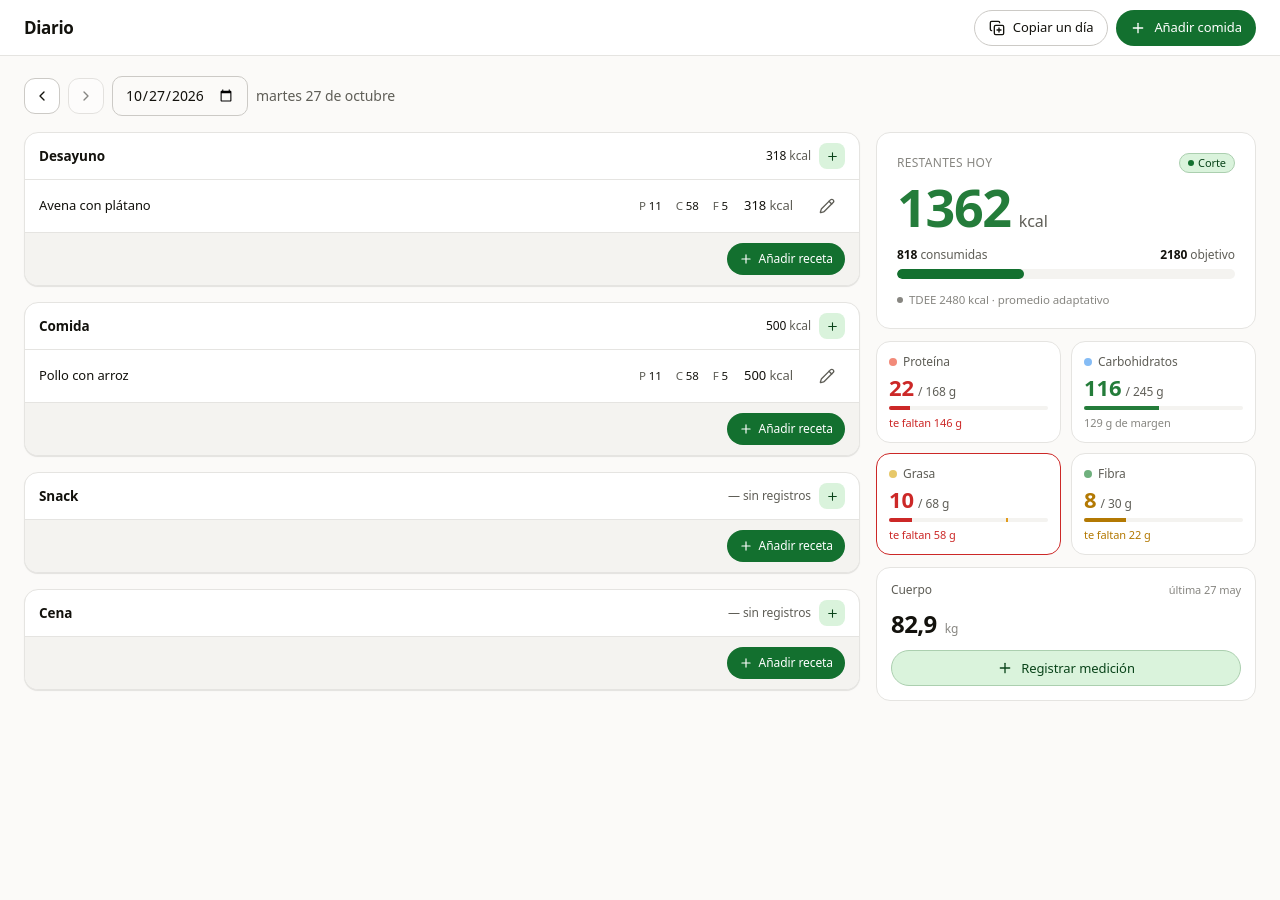
Test: DiarioPage day numbers (useDayContext) › renders the day’s kcal total, the phase label and the per-slot subtotals
Expected: the text with test id "kcal-hero-remaining" reads "1362", [897, 171, 1011, 242]
Expected: the text "Corte" is shown, [1179, 153, 1235, 173]
// mealSubtotals — one kcal figure per slot chip in the add-sheet.
Click the button "Añadir comida".
click(1186, 28)  # box [1116, 10, 1256, 46]
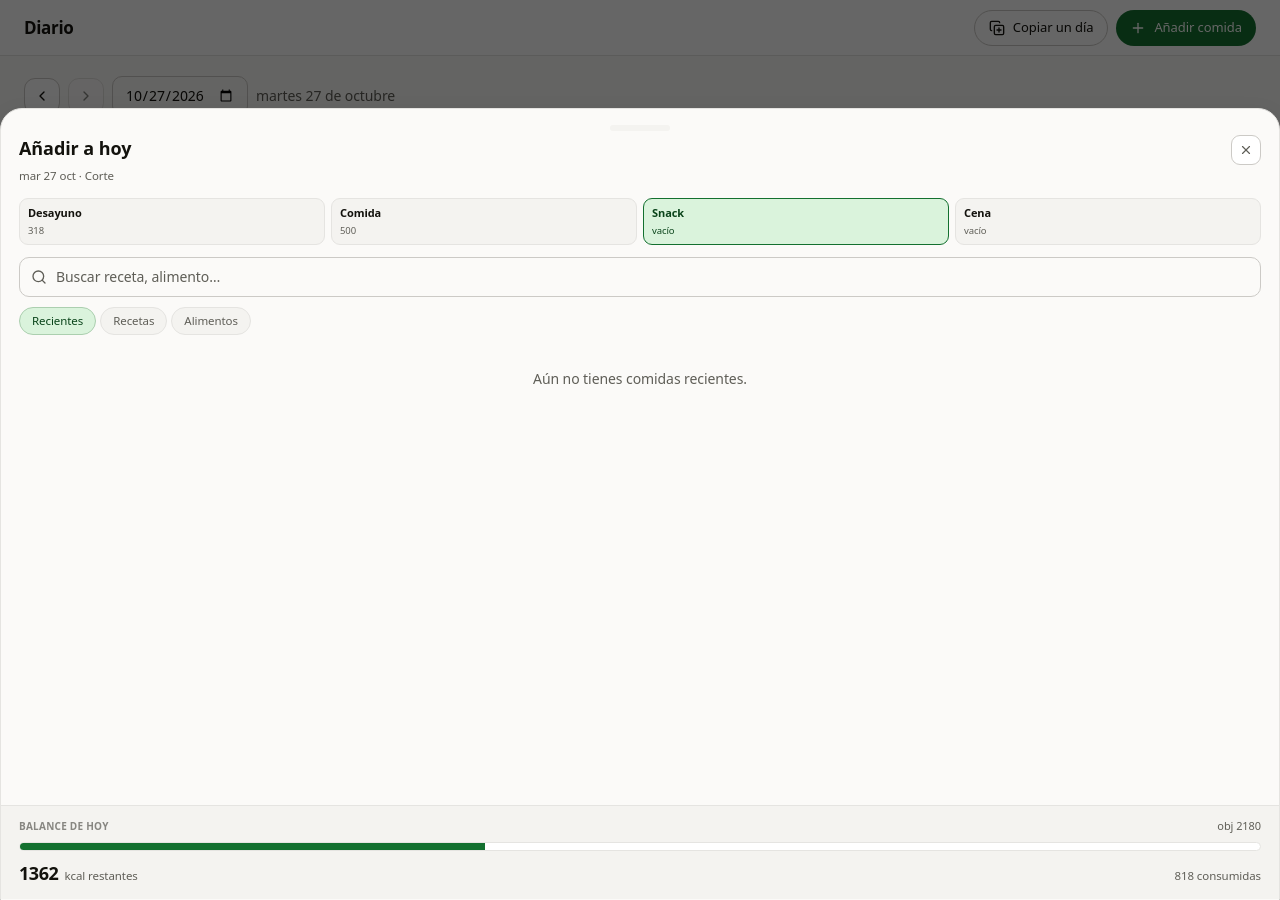
Now the radio button labelled "Desayuno 318" is shown, box [19, 198, 325, 245]
Now the radio button labelled "Comida 500" is shown, box [331, 198, 637, 245]
Now the radio button labelled "Cena vacío" is shown, box [955, 198, 1261, 245]
